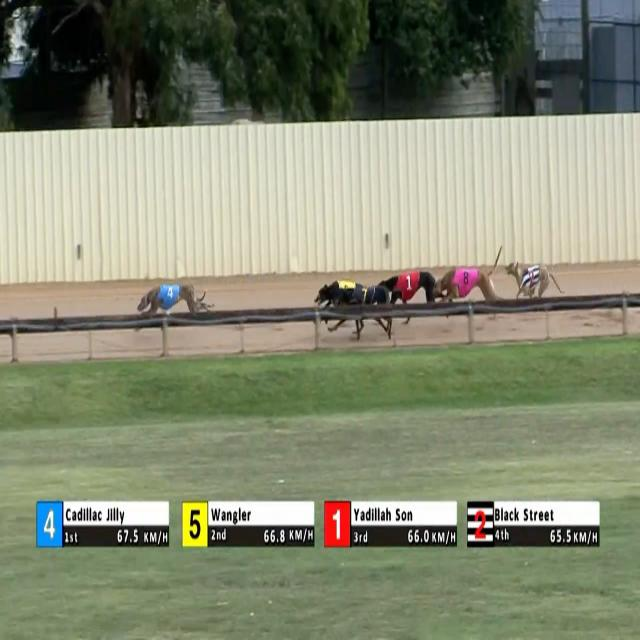dog_eight: (454, 267, 474, 295)
dog_five: (334, 278, 358, 296)
dog_four: (160, 278, 179, 308)
dog_one: (398, 271, 416, 301)
dog_seven: (359, 286, 373, 308)
dog_two: (524, 265, 540, 294)
rail: (0, 293, 640, 333)
